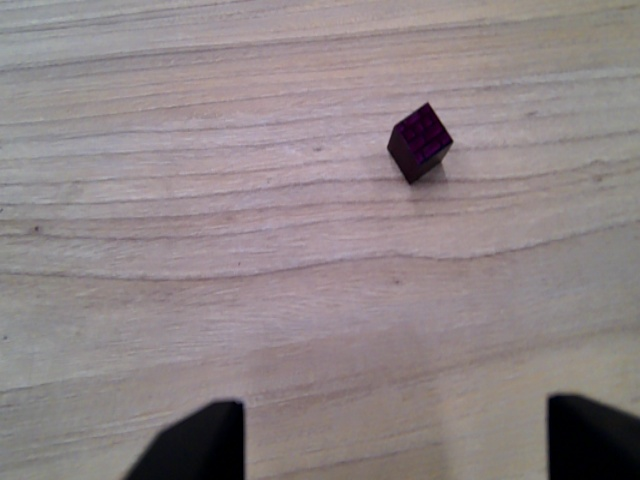brick: (386, 101, 454, 187)
